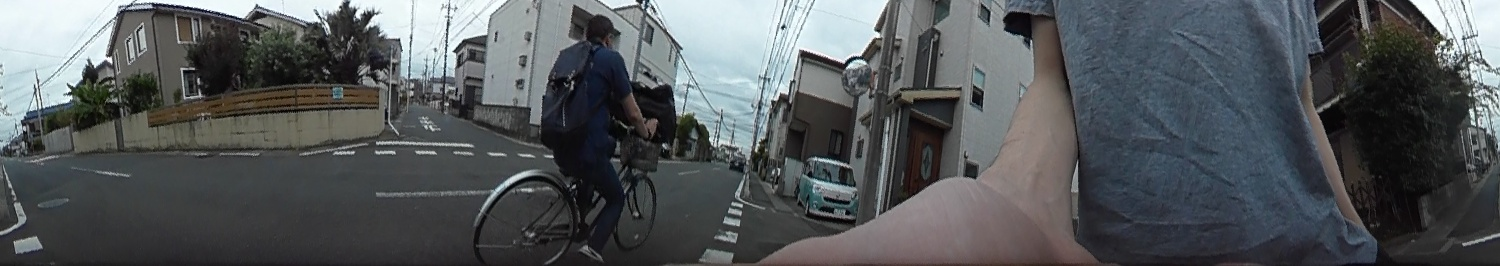person: (535, 8, 650, 252)
